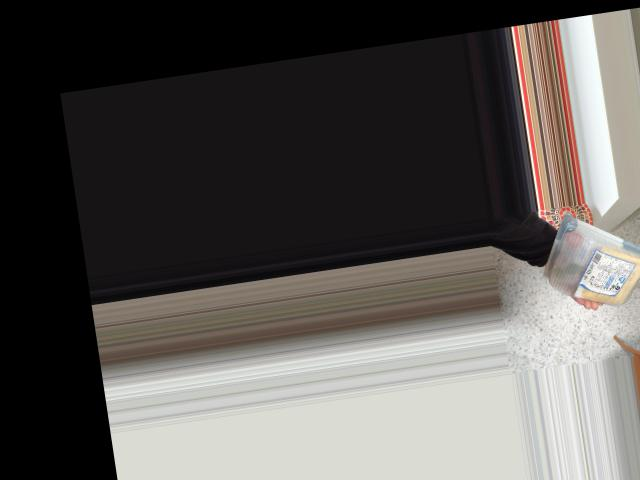cheese: (538, 210, 640, 316)
